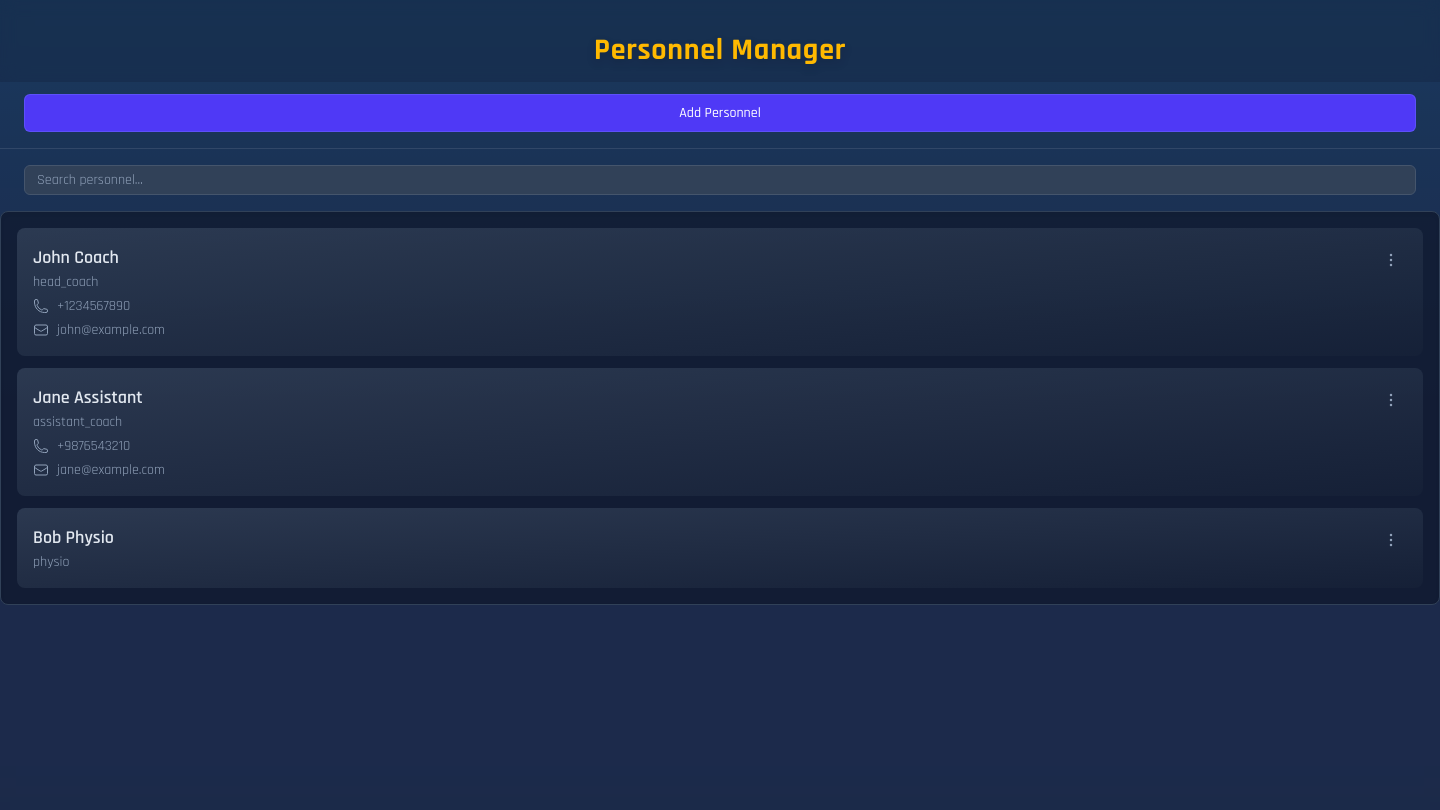
Test case: PersonnelManagerModal › Edit Personnel › should show edit form when Edit button clicked from 3-dot menu
# Click 3-dot menu button
Click the button named "More options" in the row of "John Coach".
click(1391, 260)  # box [1375,244,1407,276]
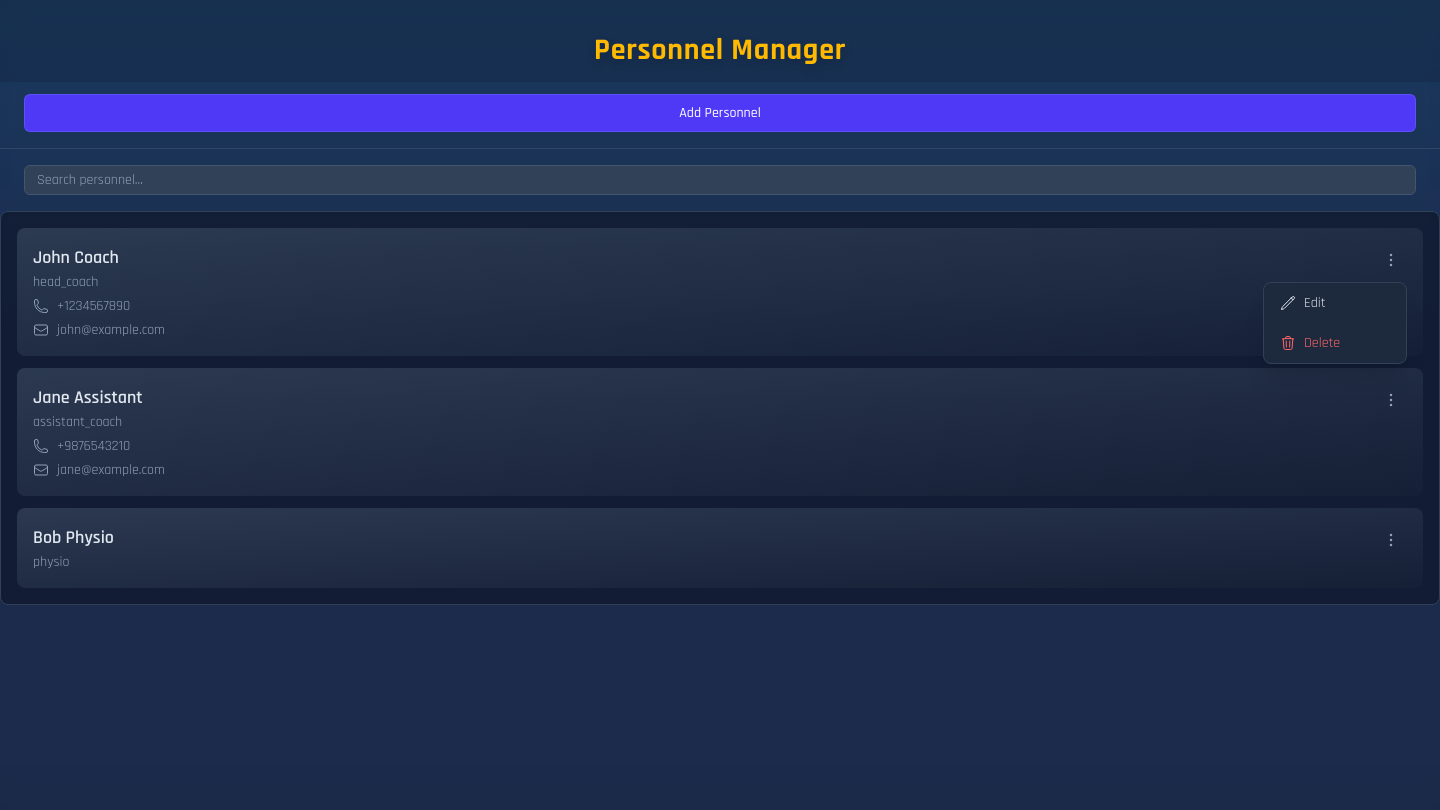
# Click Edit from dropdown
Click the button "Edit".
click(1335, 302)  # box [1264,282,1406,322]
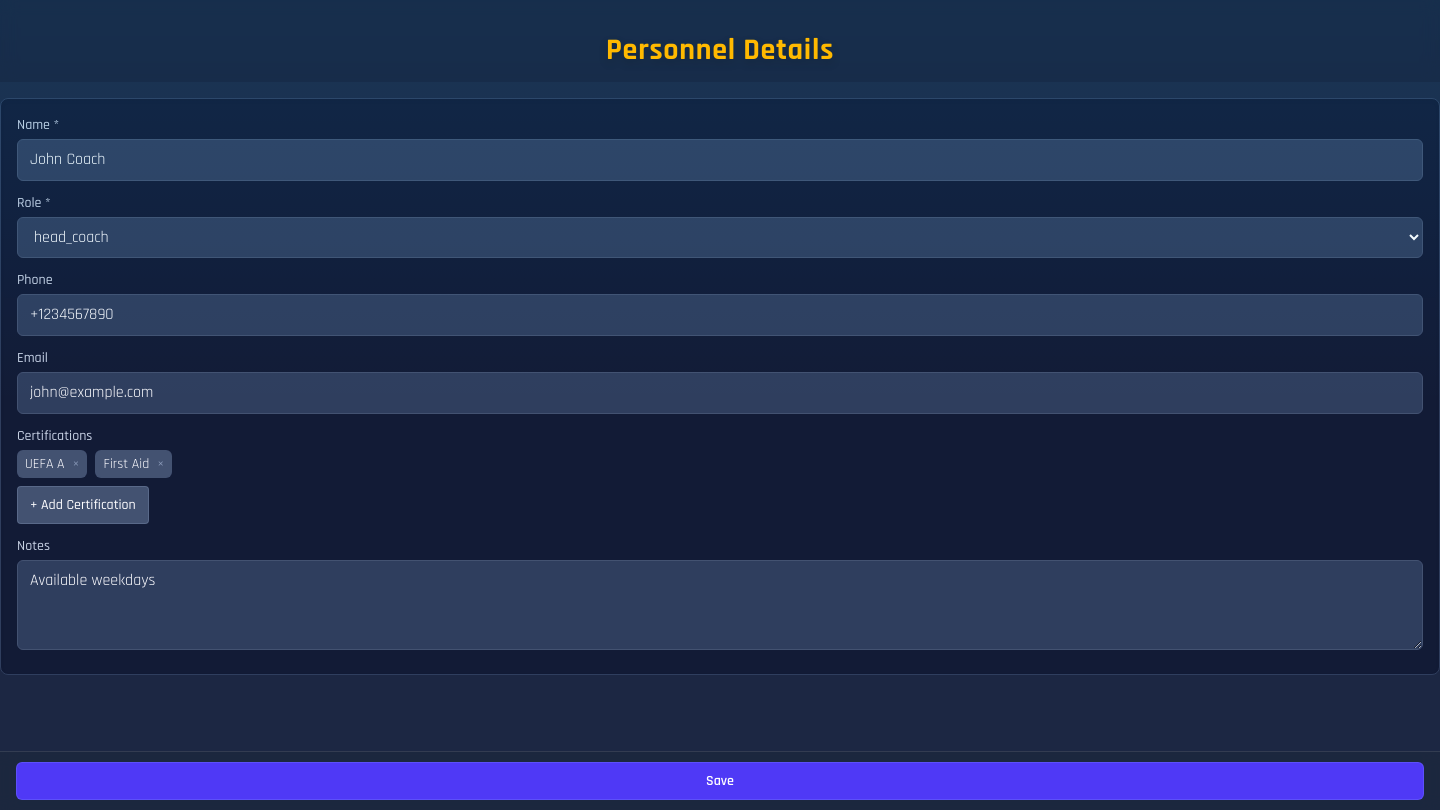
expect the field showing "John Coach" below "Name" is shown: met, box [17,138,1423,180]
expect the field showing "+1234567890" below "Phone" is shown: met, box [17,294,1423,336]
